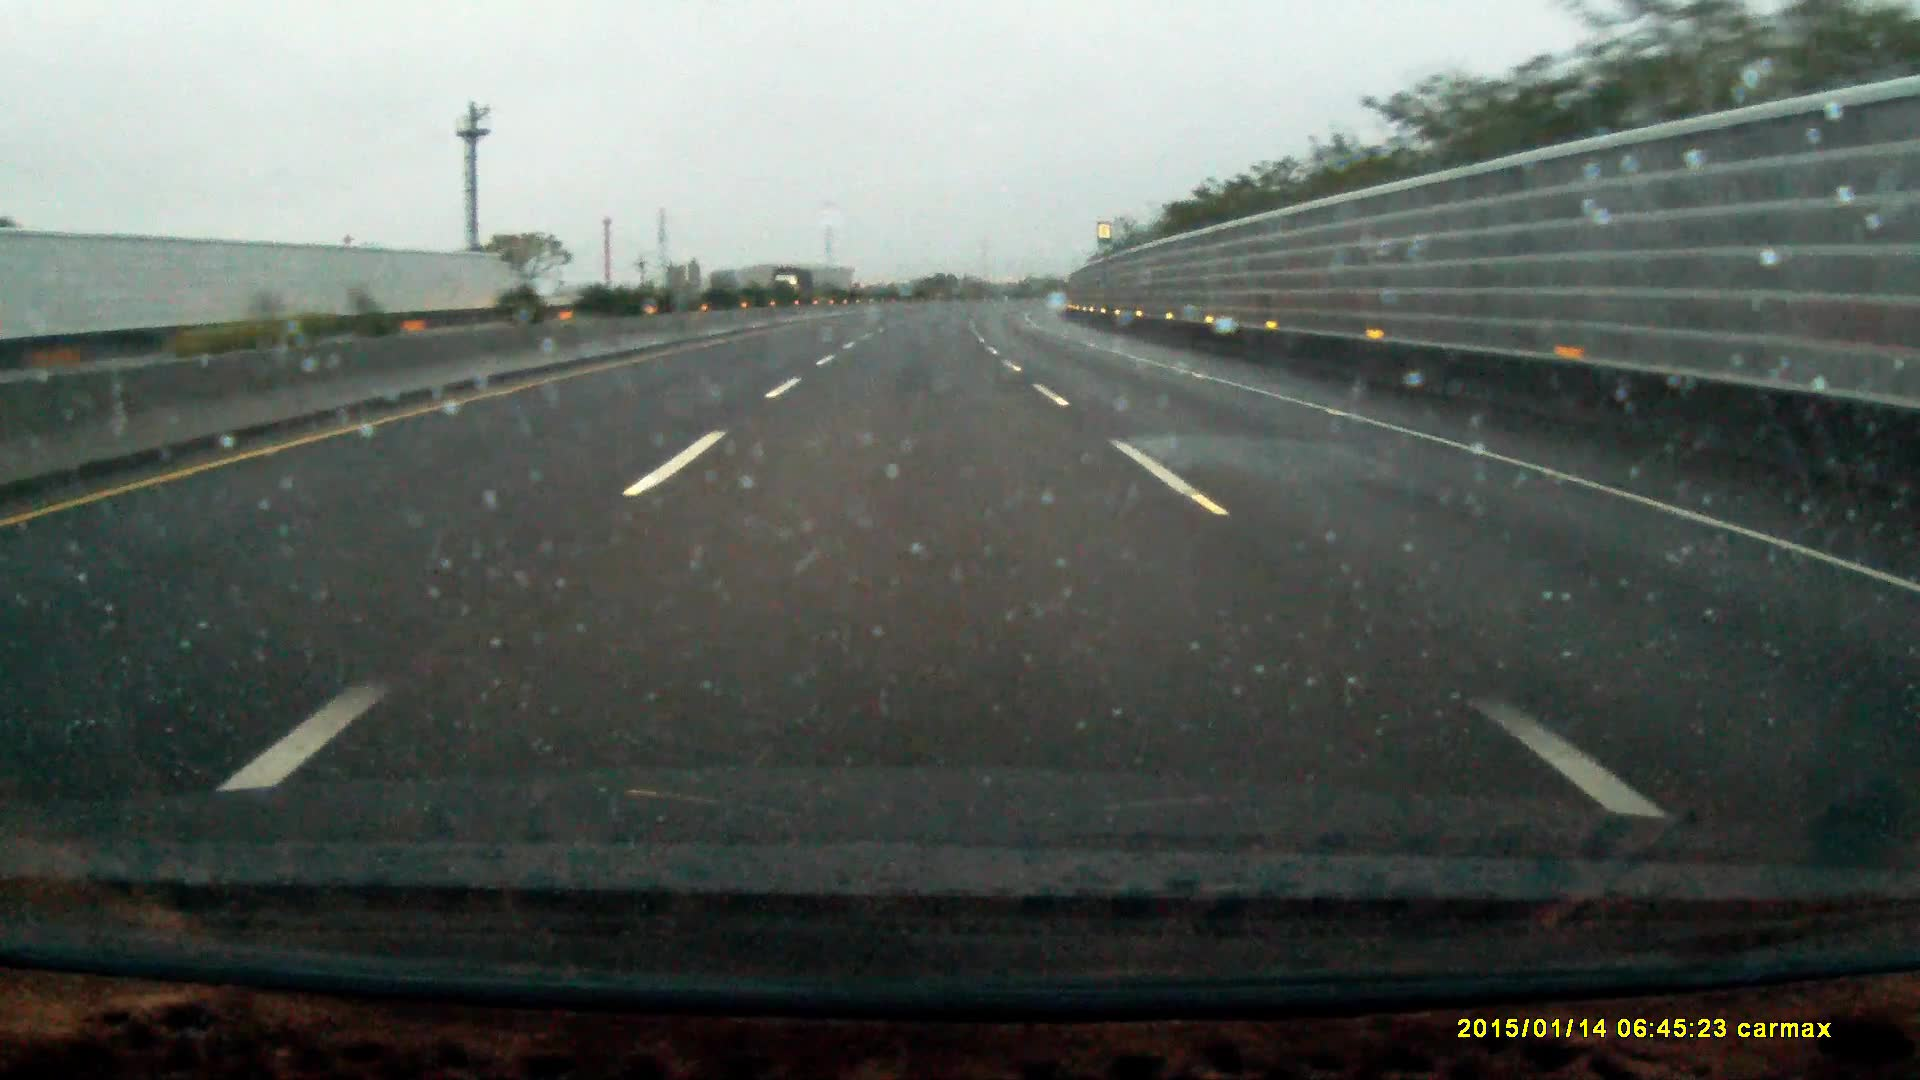vehicle: (771, 266, 815, 303)
